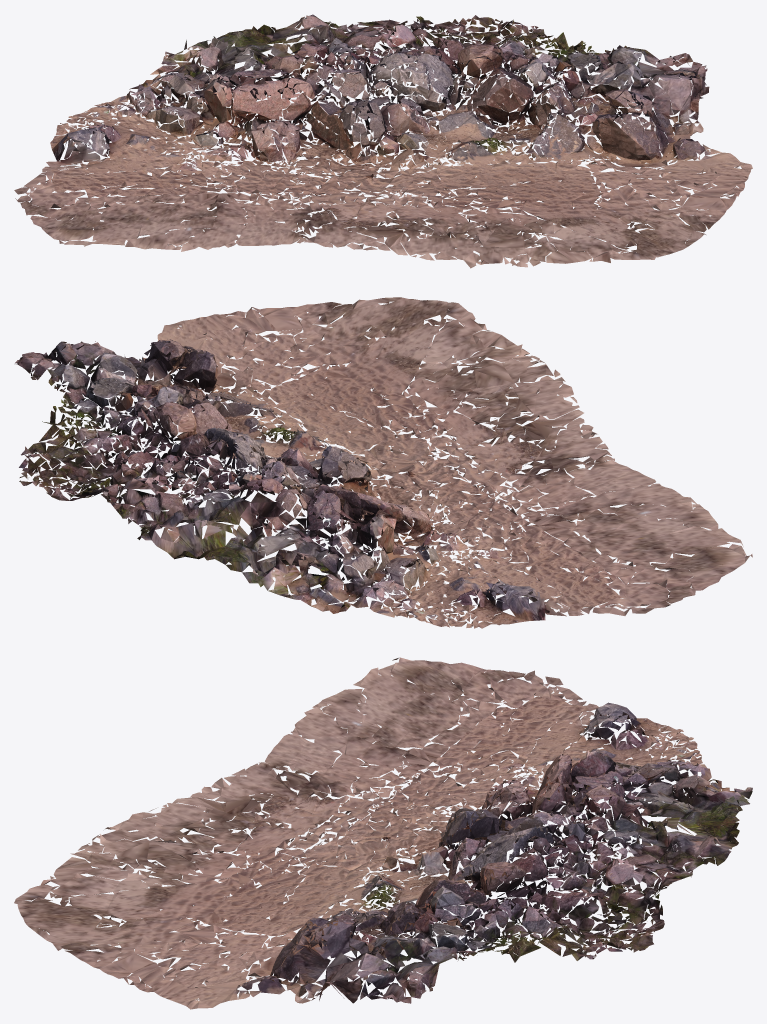
The model's file is rock_beach_scan_kit_01_mesh_8pcs.glb.
3 renders of one model, top to bottom at view 1: azimuth 30°, elevation 25°; view 2: azimuth 150°, elevation 25°; view 3: azimuth 270°, elevation 25°, orthographic. The views are drawn at different scales.
Parts seen in each view (by area): view 1: SM_BeachRock_03, SM_BeachRock_04, SM_BeachRock_05, SM_BeachRock_02, SM_BeachRock_07, SM_BeachRock_06, SM_BeachRock_01, SM_BeachRock_08; view 2: SM_BeachRock_03, SM_BeachRock_04, SM_BeachRock_06, SM_BeachRock_05, SM_BeachRock_07, SM_BeachRock_02, SM_BeachRock_01, SM_BeachRock_08; view 3: SM_BeachRock_03, SM_BeachRock_04, SM_BeachRock_07, SM_BeachRock_06, SM_BeachRock_05, SM_BeachRock_02, SM_BeachRock_01, SM_BeachRock_08.
Boxes of the visible parts, x1,y1,x2,y2 form: SM_BeachRock_03: (42,18,752,260); SM_BeachRock_04: (29,19,709,262); SM_BeachRock_05: (66,15,696,268); SM_BeachRock_02: (15,16,740,264); SM_BeachRock_07: (14,18,734,263); SM_BeachRock_06: (85,16,702,266); SM_BeachRock_01: (48,14,709,266); SM_BeachRock_08: (29,20,692,267); SM_BeachRock_03: (32,297,655,628); SM_BeachRock_04: (21,318,752,617); SM_BeachRock_06: (29,302,616,617); SM_BeachRock_05: (19,340,583,627); SM_BeachRock_07: (19,304,746,624); SM_BeachRock_02: (26,301,743,619); SM_BeachRock_01: (15,312,698,622); SM_BeachRock_08: (17,339,635,627); SM_BeachRock_03: (17,696,717,1009); SM_BeachRock_04: (40,657,721,1003); SM_BeachRock_07: (53,664,734,1003); SM_BeachRock_06: (14,707,721,1000); SM_BeachRock_05: (112,729,748,989); SM_BeachRock_02: (40,667,752,1000); SM_BeachRock_01: (75,693,752,1003); SM_BeachRock_08: (78,686,730,996).
Size of the model in its own units: 19.93 by 1.89 by 17.04.
8 materials, 8 textured.
